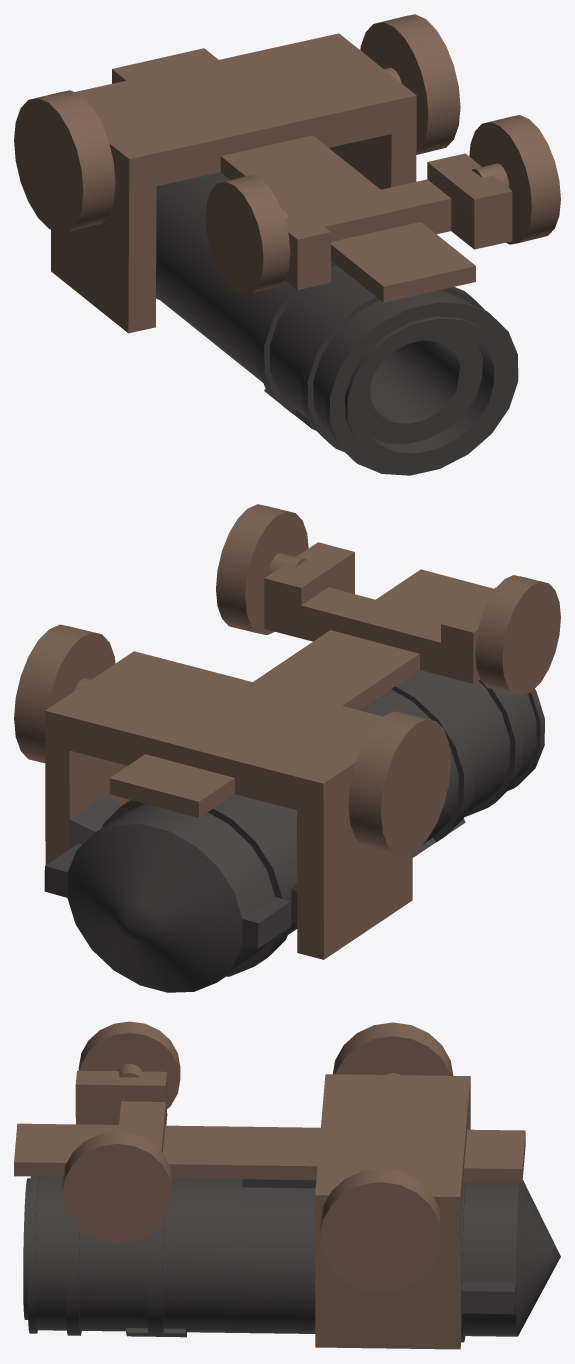
The model's file is cannon.fbx.
3 renders of one model, top to bottom at view 1: azimuth 30°, elevation 25°; view 2: azimuth 150°, elevation 25°; view 3: azimuth 270°, elevation 25°, orthographic. The views are drawn at different scales.
Visible parts, largest first — view 1: group3_pasted__pasted__pCylinder2; view 2: group3_pasted__pasted__pCylinder2; view 3: group3_pasted__pasted__pCylinder2.
Boxes of the visible parts, left/top/right/bottom form: group3_pasted__pasted__pCylinder2: left=14, top=14, right=560, bottom=475; group3_pasted__pasted__pCylinder2: left=14, top=504, right=560, bottom=992; group3_pasted__pasted__pCylinder2: left=14, top=1021, right=560, bottom=1349.
Bounding box in the file's own units: 2.44 × 1.82 × 3.56.
